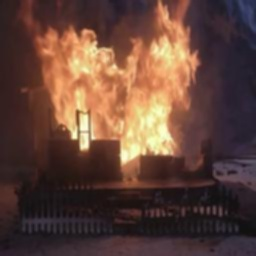fire: (31, 1, 201, 183)
